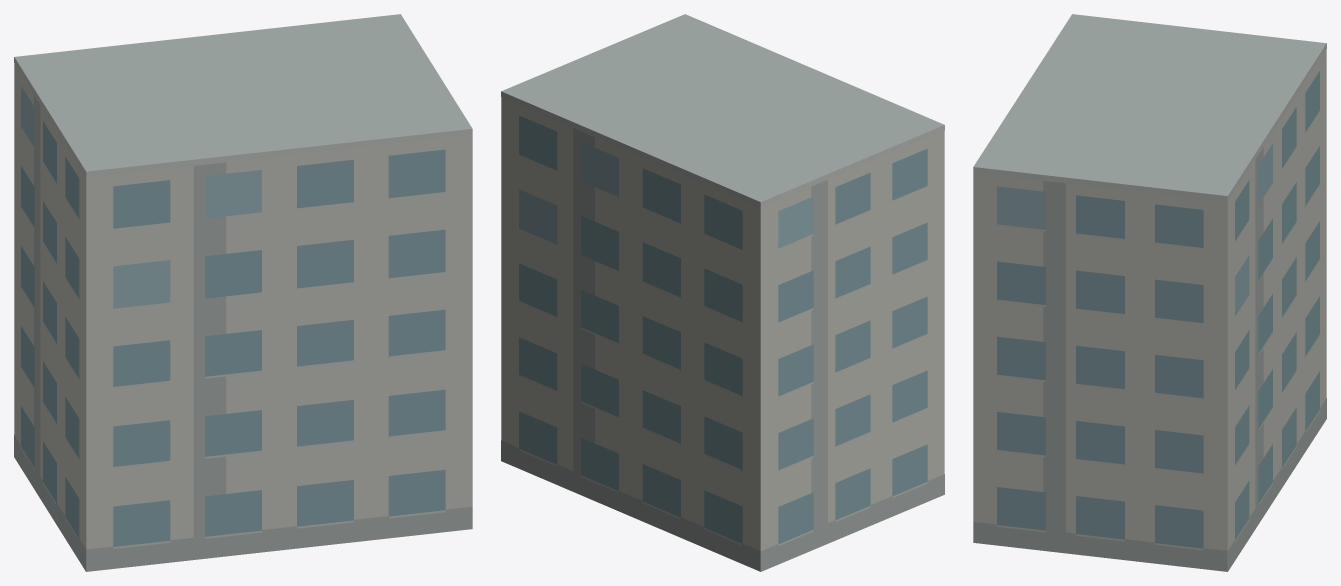
Rendered from survey-upis-32557096.glb.
3 views of the same model, side by side, from view 1: azimuth 30°, elevation 25°; view 2: azimuth 150°, elevation 25°; view 3: azimuth 270°, elevation 25° (orthographic). The views are drawn at different scales.
Parts seen in each view (by area): view 1: survey-upis-32557096.tmp; view 2: survey-upis-32557096.tmp; view 3: survey-upis-32557096.tmp.
Part boxes in pixels (bbox=[...]): survey-upis-32557096.tmp: bbox=[14, 14, 472, 571]; survey-upis-32557096.tmp: bbox=[501, 14, 944, 571]; survey-upis-32557096.tmp: bbox=[973, 14, 1326, 571].
Size of the model in its own units: 16.33 by 15.7 by 13.39.
